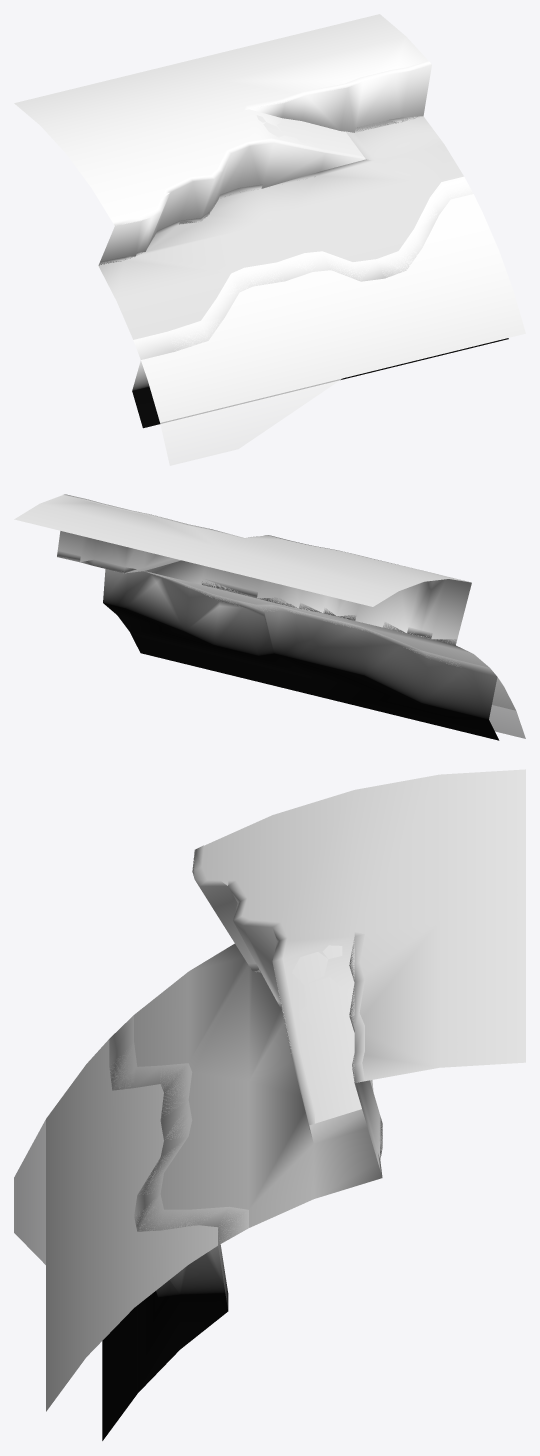
File: grd_Mse_s_S_0.dae
The picture shows the model from 3 angles, top to bottom: view 1: azimuth 30°, elevation 25°; view 2: azimuth 150°, elevation 25°; view 3: azimuth 270°, elevation 25°; orthographic projection. The views are drawn at different scales.
Visible parts, largest first — view 1: ocean_4_0, grass_3_0, beach_0_0, wave_6_0, cliff_2_0, beach_1_0, slope_5_0; view 2: beach_1_0, grass_3_0, cliff_2_0, beach_0_0, wave_6_0, ocean_4_0; view 3: grass_3_0, beach_0_0, ocean_4_0, wave_6_0, beach_1_0, cliff_2_0, slope_5_0.
Part boxes in pixels (box(x1,y1,x2,y2)): ocean_4_0: box(141, 178, 525, 422); grass_3_0: box(14, 14, 428, 223); beach_0_0: box(98, 116, 463, 339); wave_6_0: box(141, 180, 512, 465); cliff_2_0: box(99, 61, 431, 265); beach_1_0: box(132, 176, 508, 428); slope_5_0: box(256, 115, 360, 155); beach_1_0: box(103, 569, 499, 740); grass_3_0: box(14, 495, 469, 606); cliff_2_0: box(57, 494, 471, 644); beach_0_0: box(57, 551, 489, 667); wave_6_0: box(182, 583, 525, 738); ocean_4_0: box(150, 573, 515, 710); grass_3_0: box(193, 769, 525, 1123); beach_0_0: box(134, 943, 382, 1227); ocean_4_0: box(46, 1039, 248, 1411); wave_6_0: box(14, 1042, 240, 1356); beach_1_0: box(102, 1015, 248, 1440); cliff_2_0: box(192, 845, 382, 1167); slope_5_0: box(292, 945, 357, 1118).
Size of the model in its own units: 512 by 332 by 378.
Materials: 7 (1 with a texture image).
